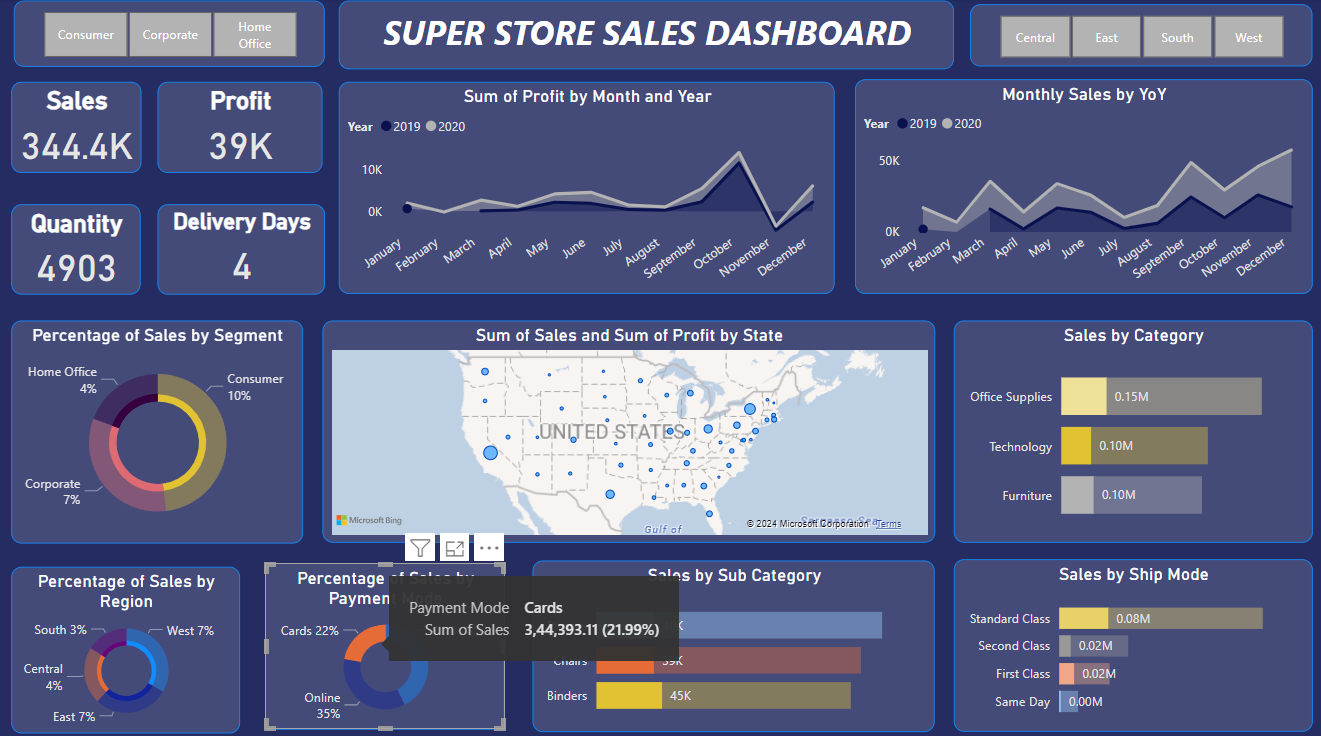

The page's visual inventory and layout, read from the dashboard file:
{"tool":"powerbi","page":{"name":"Page 1","canvas":[1280,720],"ordinal":0},"visuals":[{"type":"clusteredBarChart","title":"Sales by Category","fields":{"Category":["SuperStore_Sales_Dataset.Category"],"Y":["Sum(SuperStore_Sales_Dataset.Sales)"]},"box":[920.2,311.2,346.1,214.7],"z":0},{"type":"clusteredBarChart","title":"Sales by Sub Category","fields":{"Category":["SuperStore_Sales_Dataset.Sub-Category"],"Y":["Sum(SuperStore_Sales_Dataset.Sales)"]},"box":[513.8,542.7,388.3,165.2],"z":1000},{"type":"clusteredBarChart","title":"Sales by Ship Mode","fields":{"Category":["SuperStore_Sales_Dataset.Ship Mode"],"Y":["Sum(SuperStore_Sales_Dataset.Sales)"]},"box":[920,541.2,346.2,166.2],"z":2000},{"type":"stackedAreaChart","title":"Monthly Sales by YoY","fields":{"Y":["Sum(SuperStore_Sales_Dataset.Sales)"],"Category":["SuperStore_Sales_Dataset.Order Date.Variation.Date Hierarchy.Month","SuperStore_Sales_Dataset.Order Date.Variation.Date Hierarchy.Day"],"Series":["SuperStore_Sales_Dataset.Order Date.Variation.Date Hierarchy.Year"]},"box":[825,78.8,441.2,207.5],"z":3000},{"type":"stackedAreaChart","fields":{"Category":["SuperStore_Sales_Dataset.Order Date.Variation.Date Hierarchy.Month","SuperStore_Sales_Dataset.Order Date.Variation.Date Hierarchy.Day"],"Series":["SuperStore_Sales_Dataset.Order Date.Variation.Date Hierarchy.Year"],"Y":["Sum(SuperStore_Sales_Dataset.Profit)"]},"box":[326.2,81.2,478.8,205],"z":4000},{"type":"map","fields":{"Category":["SuperStore_Sales_Dataset.State"],"Size":["Sum(SuperStore_Sales_Dataset.Sales)"]},"box":[311.2,311.2,591,214.7],"z":5000},{"type":"donutChart","title":"Percentage of Sales by Segment","fields":{"Category":["SuperStore_Sales_Dataset.Segment"],"Y":["Sum(SuperStore_Sales_Dataset.Sales)"]},"box":[11.2,311.2,281.2,215],"z":6000},{"type":"donutChart","title":"Percentage of Sales by Payment Mode","fields":{"Category":["SuperStore_Sales_Dataset.Payment Mode"],"Y":["Sum(SuperStore_Sales_Dataset.Sales)"]},"box":[255.7,545.1,231.6,160.4],"z":7000},{"type":"slicer","fields":{"Values":["SuperStore_Sales_Dataset.Region"]},"box":[936.2,6.2,330,60],"z":8000},{"type":"textbox","box":[326.2,2.5,593.8,66.2],"z":9000},{"type":"card","title":"Sales","fields":{"Values":["Sum(SuperStore_Sales_Dataset.Sales)"]},"box":[11.2,81.2,125,87.5],"z":10000},{"type":"card","title":"Quantity","fields":{"Values":["Sum(SuperStore_Sales_Dataset.Quantity)"]},"box":[11.2,198.8,125,87.5],"z":11000},{"type":"card","title":"Profit","fields":{"Values":["Sum(SuperStore_Sales_Dataset.Profit)"]},"box":[161.2,81.2,152.5,87.5],"z":12000},{"type":"card","title":"Delivery Days","fields":{"Values":["Avg(SuperStore_Sales_Dataset.AvgDelievery)"]},"box":[162.5,198.8,151.2,87.5],"z":13000},{"type":"donutChart","title":"Percentage of Sales by Region","fields":{"Category":["SuperStore_Sales_Dataset.Region"],"Y":["Sum(SuperStore_Sales_Dataset.Sales)"]},"box":[10.9,548.7,220.7,160.4],"z":14000},{"type":"slicer","fields":{"Values":["SuperStore_Sales_Dataset.Segment"]},"box":[11.2,2.5,300,63.8],"z":15000}]}

Visuals, with their boxes in screenshot pixels (x1, y1, x2, y2), scaled from the page's 1280x720 canvas onto the 1321x736 screenshot:
"Sales by Category" clusteredBarChart: [950, 318, 1307, 538]
"Sales by Sub Category" clusteredBarChart: [530, 555, 931, 724]
"Sales by Ship Mode" clusteredBarChart: [949, 553, 1307, 723]
"Monthly Sales by YoY" stackedAreaChart: [851, 81, 1307, 293]
stackedAreaChart - SuperStore_Sales_Dataset.Order Date.Variation.Date Hierarchy.Month x SuperStore_Sales_Dataset.Order Date.Variation.Date Hierarchy.Day: [337, 83, 831, 293]
map - SuperStore_Sales_Dataset.State x Sum(SuperStore_Sales_Dataset.Sales): [321, 318, 931, 538]
"Percentage of Sales by Segment" donutChart: [12, 318, 302, 538]
"Percentage of Sales by Payment Mode" donutChart: [264, 557, 503, 721]
slicer - SuperStore_Sales_Dataset.Region: [966, 6, 1307, 68]
textbox: [337, 3, 949, 70]
"Sales" card: [12, 83, 141, 172]
"Quantity" card: [12, 203, 141, 293]
"Profit" card: [166, 83, 324, 172]
"Delivery Days" card: [168, 203, 324, 293]
"Percentage of Sales by Region" donutChart: [11, 561, 239, 725]
slicer - SuperStore_Sales_Dataset.Segment: [12, 3, 321, 68]
